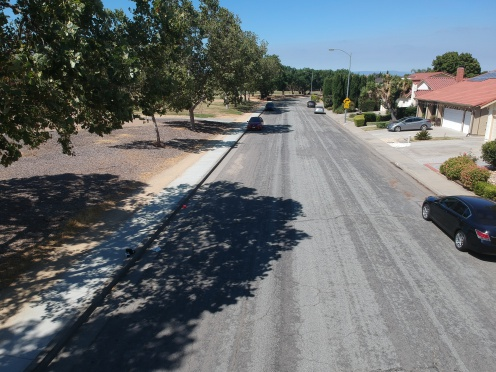plastic bag: (150, 245, 163, 254)
